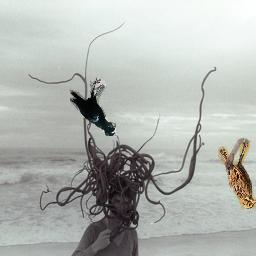Crow: (70, 78, 116, 137)
Sparrow: (218, 139, 256, 210)
